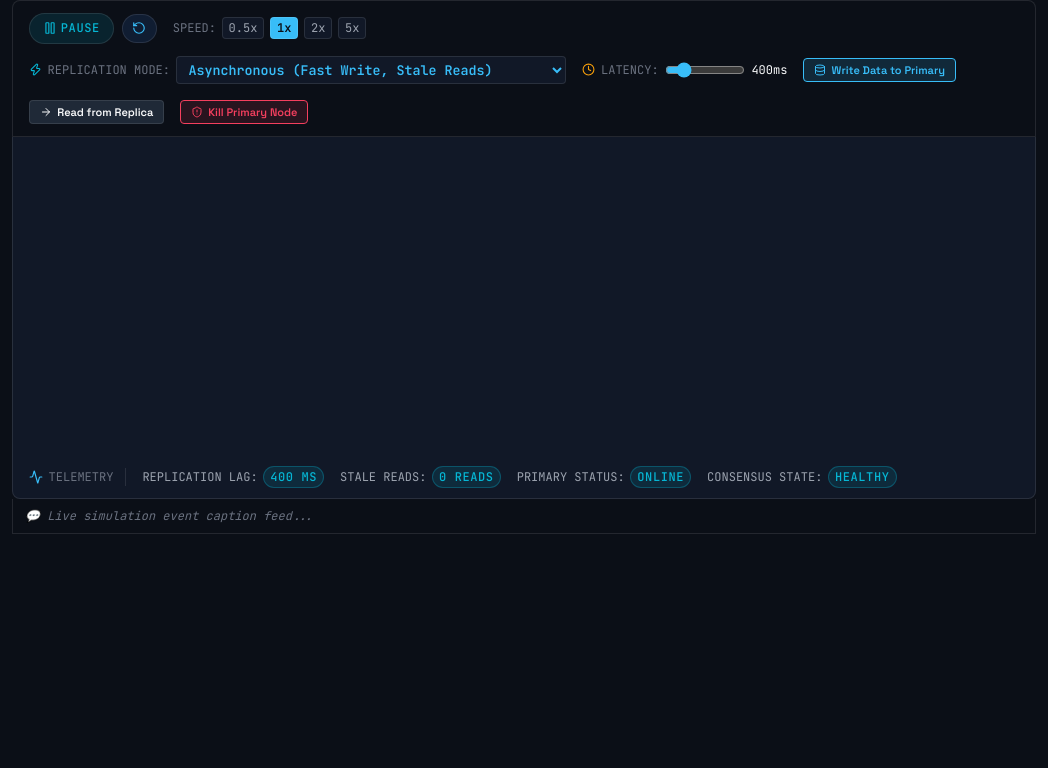
ReplicationVisualizer (Catalog Viz #3) › handles Primary Node Failure and consensus election
Click the button "Kill Primary Node". click: {"x": 244, "y": 112}
box: [180,100,308,124]
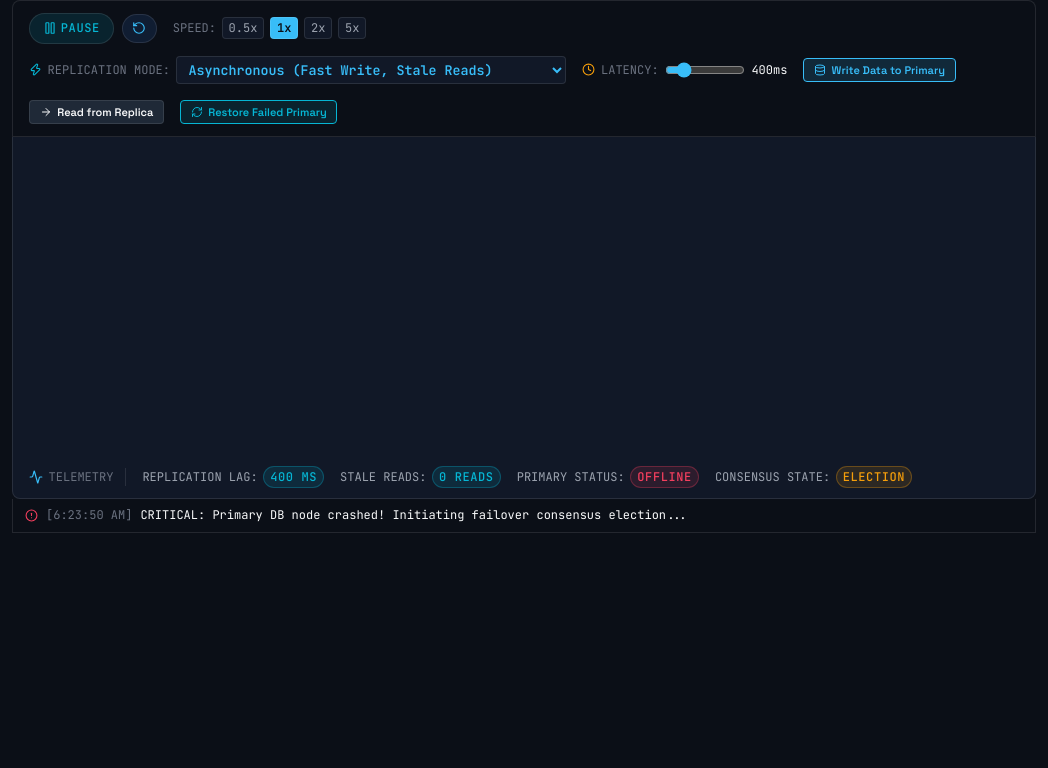
Expected: the text "CRITICAL: Primary DB node crashed! Initiating failover consensus election" is shown, [140,507,688,523]
